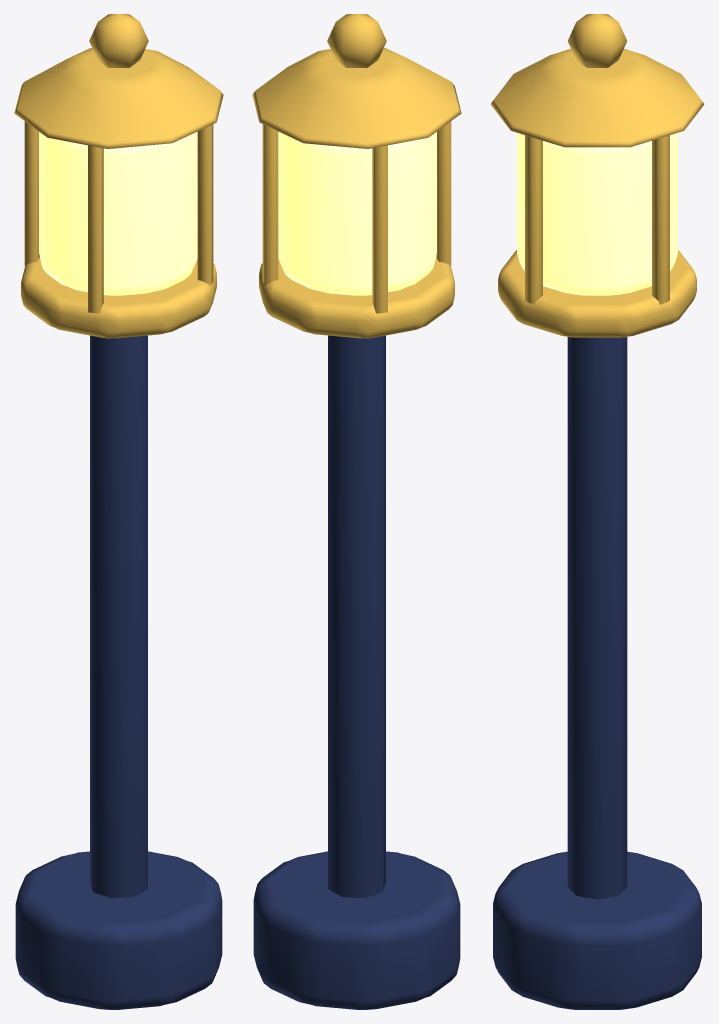
Rendered from sky_exit_lantern.glb.
3 views of the same model, side by side, from view 1: azimuth 30°, elevation 25°; view 2: azimuth 150°, elevation 25°; view 3: azimuth 270°, elevation 25° (orthographic).
Visible parts, largest first — view 1: ExitLantern; view 2: ExitLantern; view 3: ExitLantern.
Part boxes in pixels (x1,y1,x2,y2): ExitLantern: [14, 14, 223, 1009]; ExitLantern: [252, 14, 461, 1009]; ExitLantern: [490, 14, 704, 1009].
Bounding box in the file's own units: 0.3424 × 1.77 × 0.3579.
